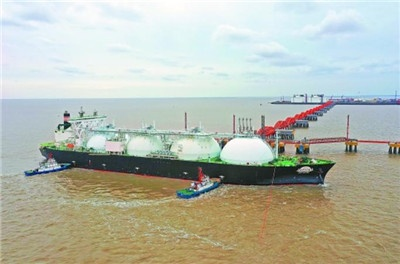Cargoship: (42, 105, 336, 185)
otherboat: (175, 172, 222, 199), (22, 158, 70, 178)
